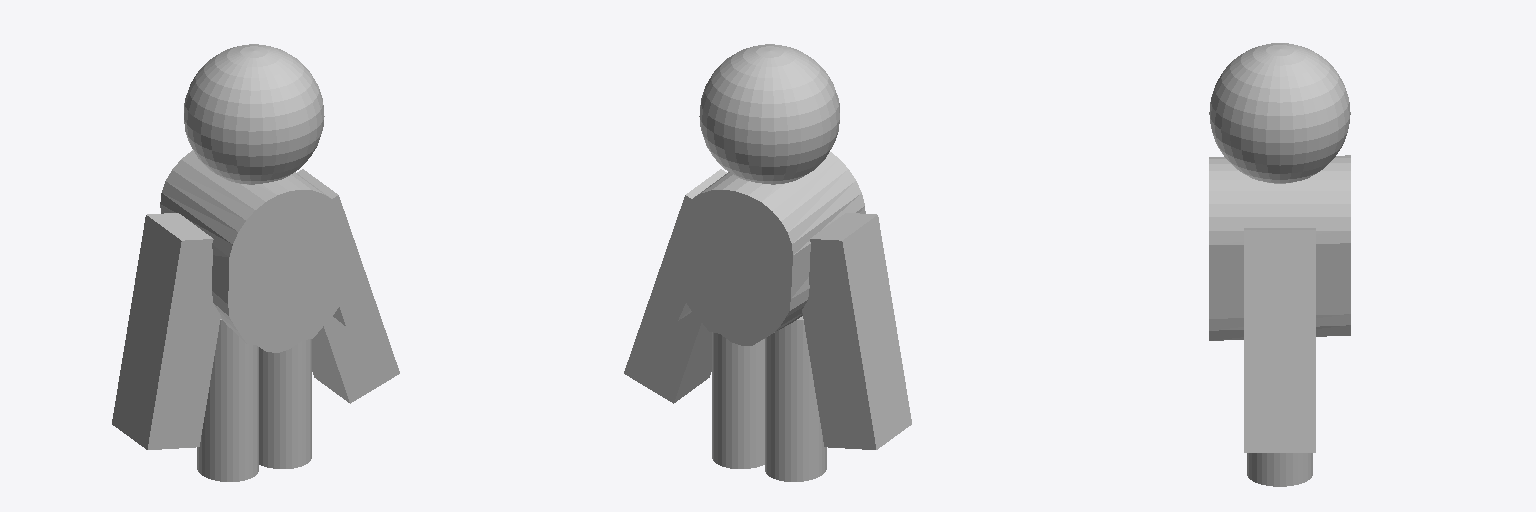
The model's file is Figurine8.obj.
The picture shows the model from 3 angles: view 1: azimuth 30°, elevation 25°; view 2: azimuth 150°, elevation 25°; view 3: azimuth 270°, elevation 25°; orthographic projection.
Visible parts, largest first — view 1: Cylinder; view 2: Cylinder; view 3: Cylinder.
Part boxes in pixels (left/top/right/bottom): Cylinder: left=112, top=44, right=399, bottom=481; Cylinder: left=624, top=44, right=911, bottom=481; Cylinder: left=1209, top=43, right=1350, bottom=486.
Size of the model in its own units: 4.13 by 6.42 by 2.